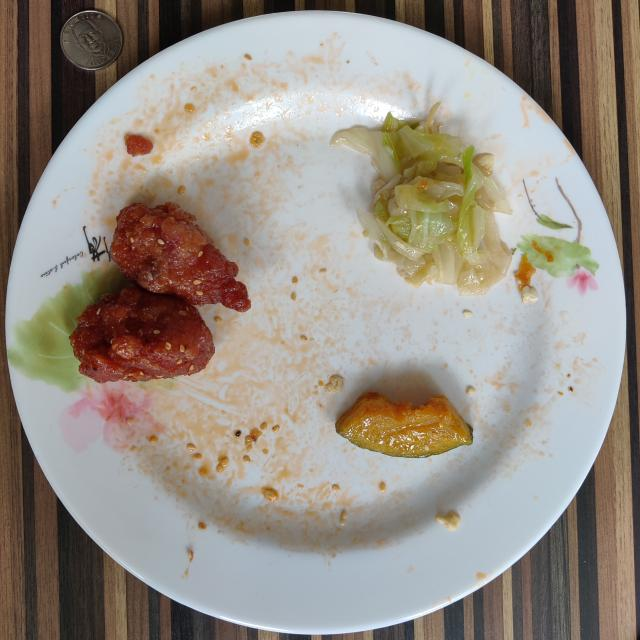cabbage: (331, 102, 511, 295)
coin: (60, 10, 122, 70)
pumpkin: (335, 392, 472, 458)
